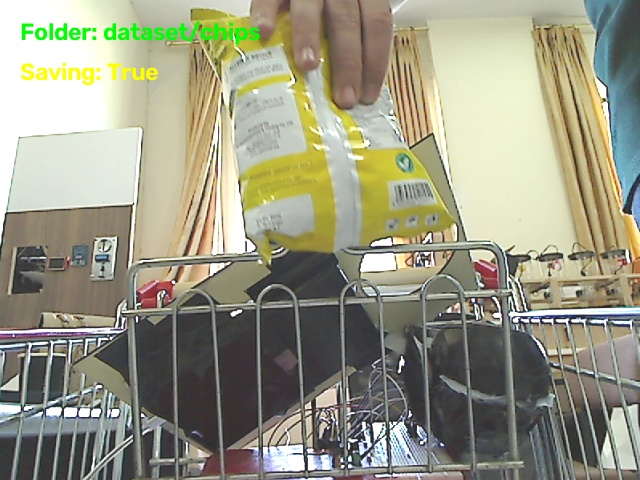chips: (192, 9, 452, 260)
